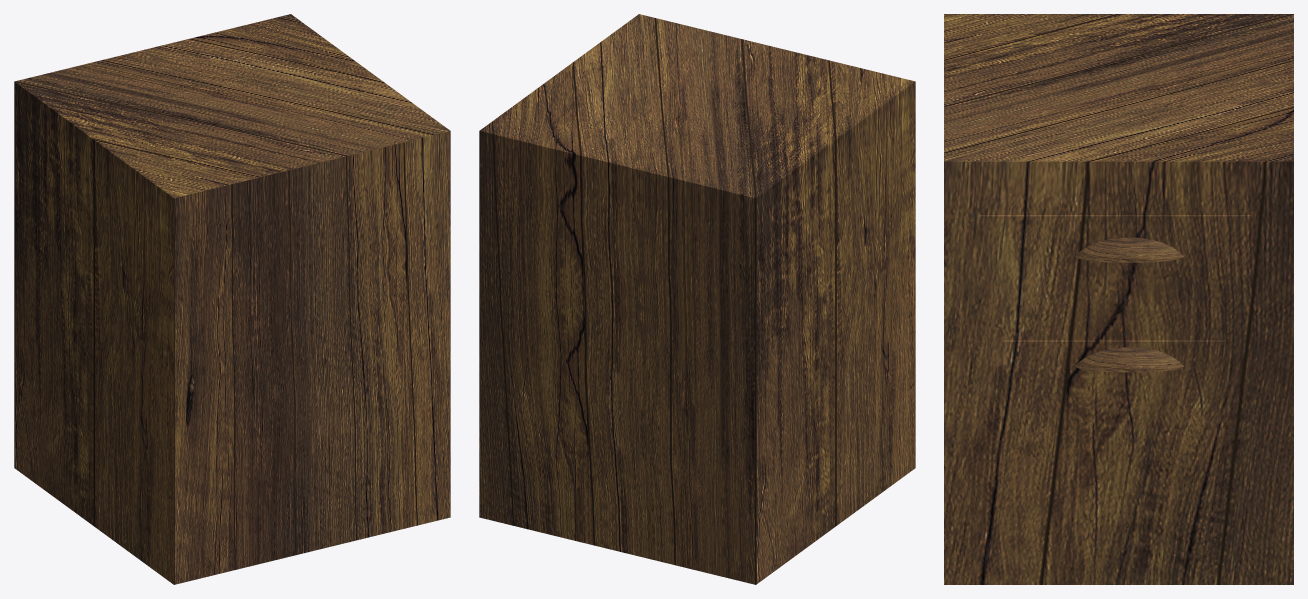
File: Cageboard.fbx
The picture shows the model from 3 angles, left to right: view 1: azimuth 30°, elevation 25°; view 2: azimuth 150°, elevation 25°; view 3: azimuth 270°, elevation 25°; orthographic projection. The views are drawn at different scales.
Visible parts, largest first — view 1: Cube; view 2: Cube; view 3: Cube.
Part boxes in pixels (<box>): Cube: <box>14,14,450,584</box>; Cube: <box>479,14,915,584</box>; Cube: <box>944,14,1293,584</box>.
Size of the model in its own units: 148 by 189 by 141.
